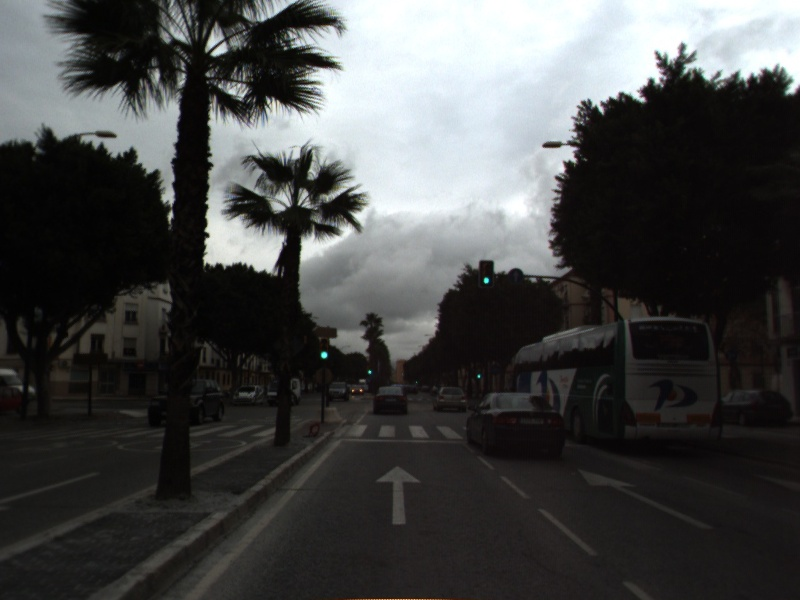STRAIGHT: (575, 466, 716, 532), (373, 463, 424, 527)
